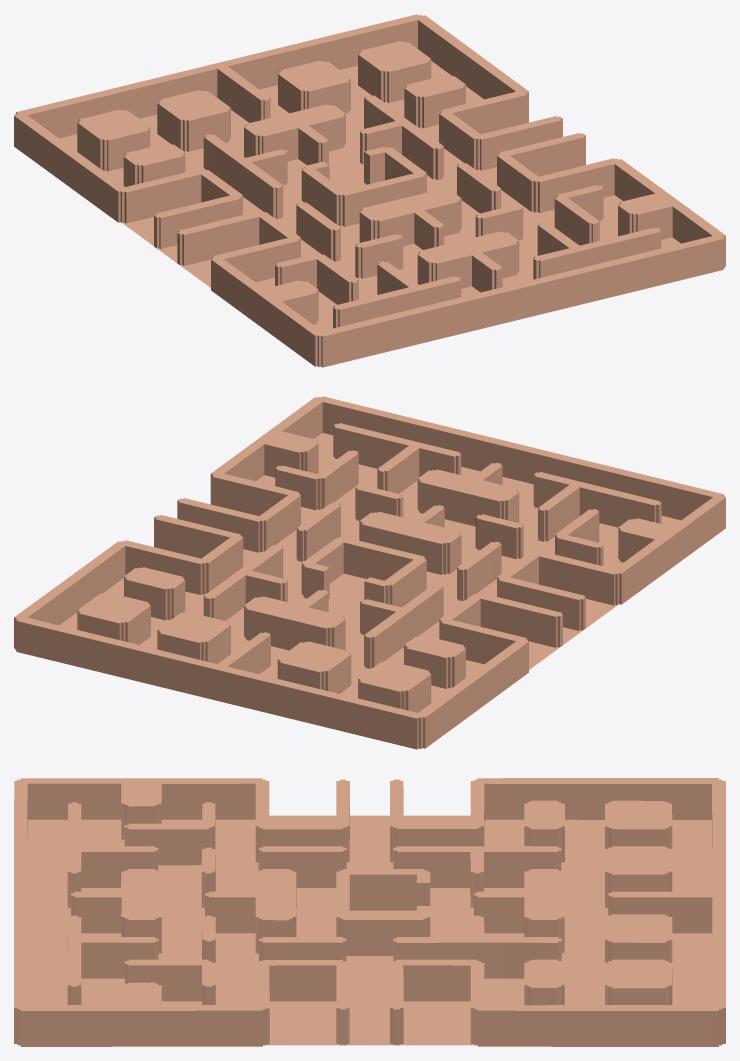
Rendered from map.fbx.
3 renders of one model, top to bottom at view 1: azimuth 30°, elevation 25°; view 2: azimuth 150°, elevation 25°; view 3: azimuth 270°, elevation 25°, orthographic. The views are drawn at different scales.
Parts seen in each view (by area): view 1: 13.2.163.001; view 2: 13.2.163.001; view 3: 13.2.163.001.
Boxes of the visible parts, left/top/right/bottom form: 13.2.163.001: left=14, top=14, right=725, bottom=367; 13.2.163.001: left=14, top=396, right=725, bottom=749; 13.2.163.001: left=14, top=778, right=725, bottom=1046.
Bounding box in the file's own units: 9113 × 656 × 11771.
